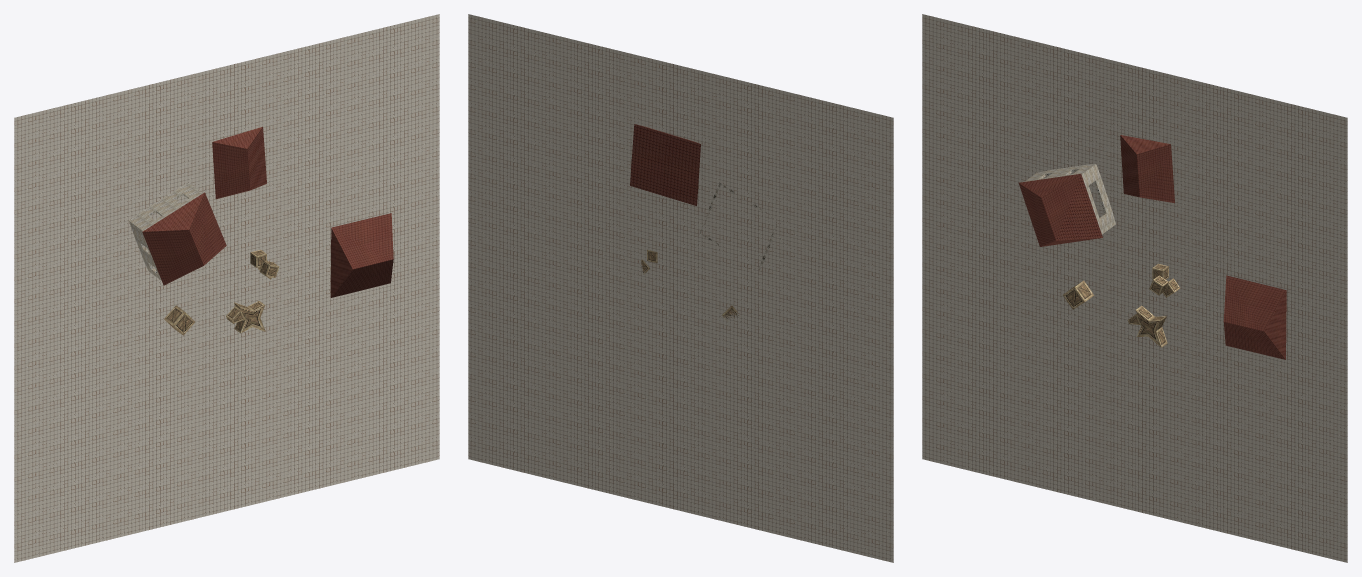
File: map_prime.glb
3 renders of one model, left to right at view 1: azimuth 30°, elevation 25°; view 2: azimuth 150°, elevation 25°; view 3: azimuth 330°, elevation 25°, orthographic.
Parts seen in each view (by area): view 1: Plane, Roof, Roof.002, Roof.001, Building, Crate.004; view 2: Plane, Roof.001; view 3: Plane, Roof.002, Roof, Roof.001, Building, Crate.004.
Boxes of the visible parts, x1,y1,x2,y2 form: Plane: (14,14,439,562); Roof: (142,192,226,285); Roof.002: (330,213,393,297); Roof.001: (212,126,266,199); Building: (129,183,202,280); Crate.004: (226,301,265,333); Plane: (468,14,893,562); Roof.001: (630,124,700,205); Plane: (922,14,1347,562); Roof.002: (1223,275,1286,359); Roof: (1018,174,1102,246); Roof.001: (1120,135,1174,203); Building: (1025,164,1115,234); Crate.004: (1127,305,1167,347).
Bounding box in the file's own units: 40 × 40 × 5.03.
4 materials, 4 textured.
